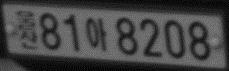0: (163, 18, 185, 59)
1: (62, 13, 84, 52)
2: (139, 17, 163, 57)
8: (114, 16, 138, 55), (188, 20, 211, 60), (39, 11, 61, 50)
아: (85, 16, 108, 51)
울산_V: (15, 9, 38, 50)
